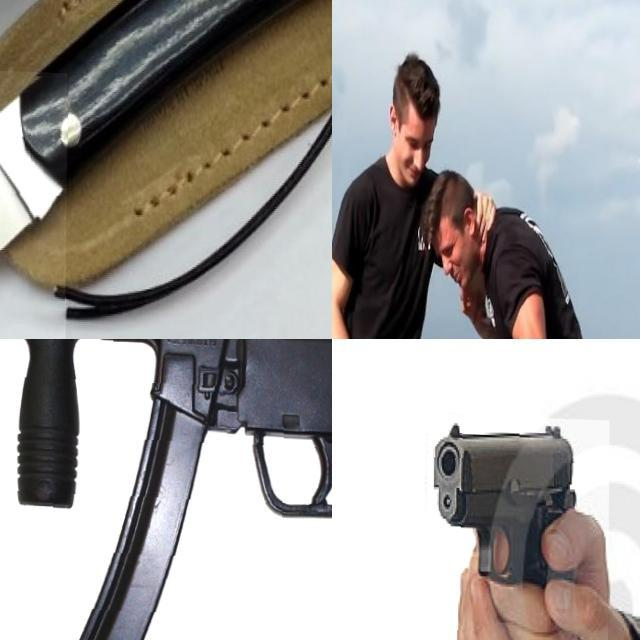-: (0, 62, 151, 339)
gun-knife-thesis - v11 Yolov5 augmented: (0, 339, 332, 640), (426, 412, 609, 640)
